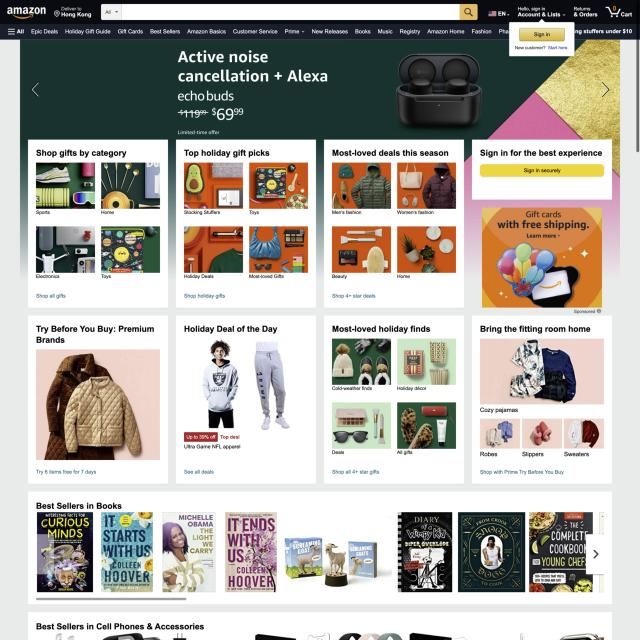input: (101, 4, 478, 20)
logo: (4, 4, 48, 19)
navigation: (31, 26, 493, 37), (6, 25, 27, 36)
